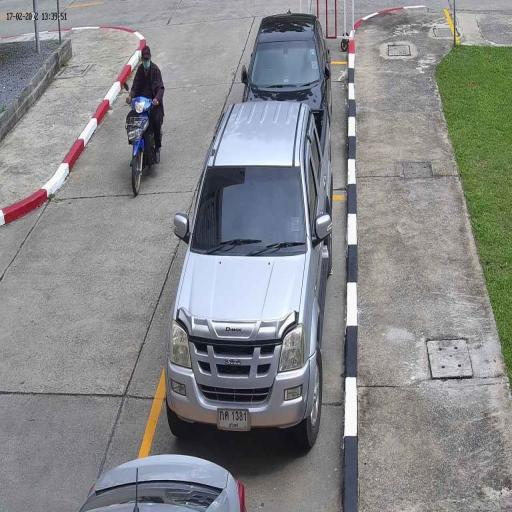car: (166, 98, 334, 454), (73, 451, 248, 512), (240, 13, 332, 110)
motorcycle: (122, 93, 164, 196)
